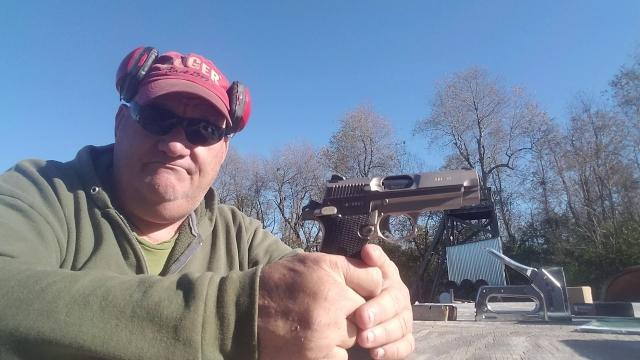handgun: (296, 162, 484, 276)
